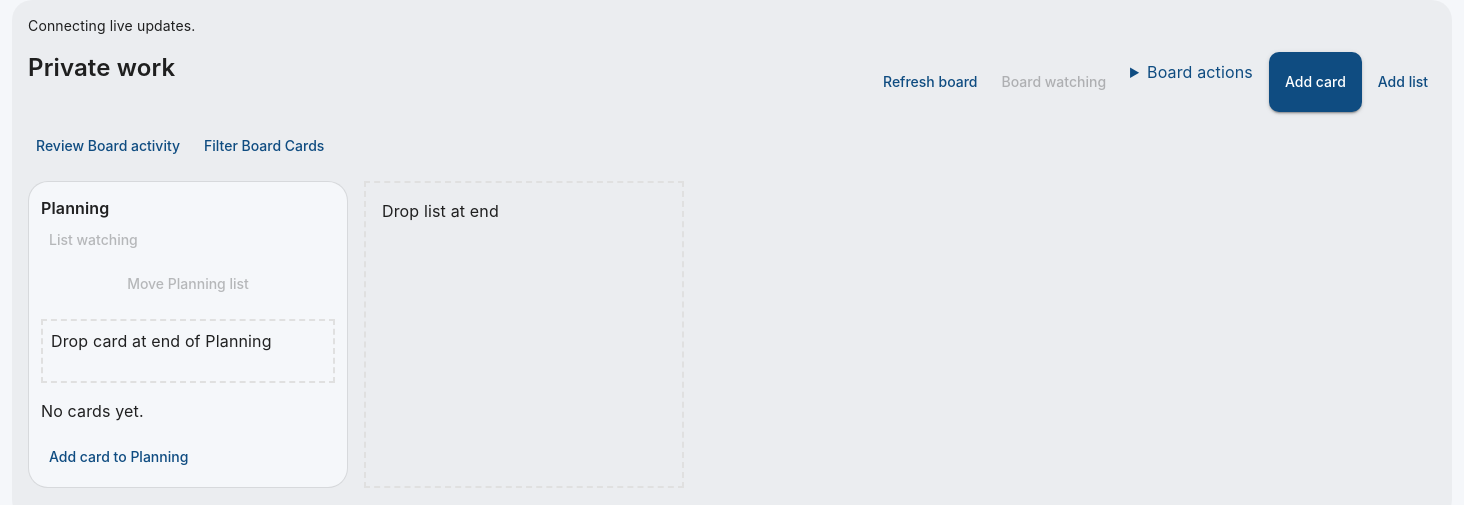
Test case: PRD-08-VS-04 Card creation identity › cannot open a late admitted form after a newer protected Board refusal
Click the button "Add card to Planning" at (119, 457), box 41,438 -> 196,475
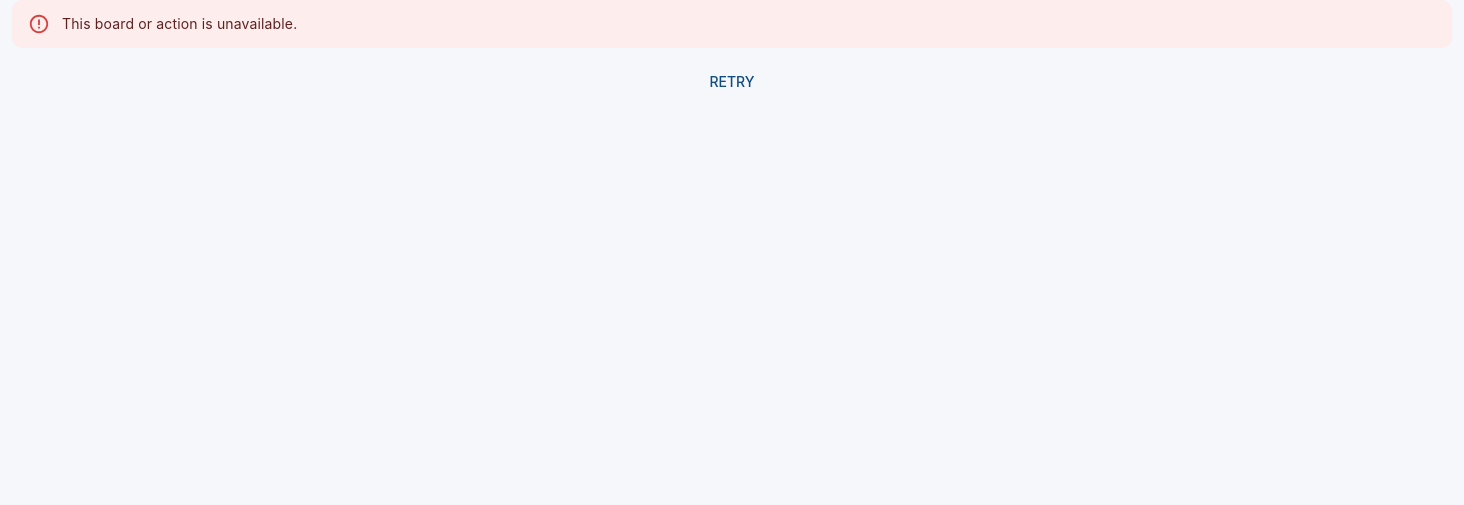
Expected: the message shows "unavailable", 62,15 -> 297,32
Expected: the heading "Private work" is gone
